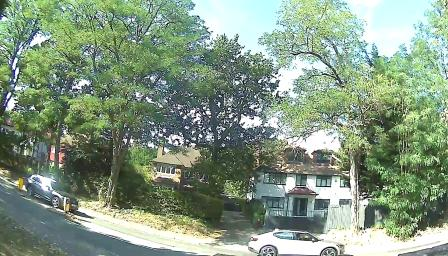Cars: (240, 217, 354, 256), (28, 162, 92, 218)
